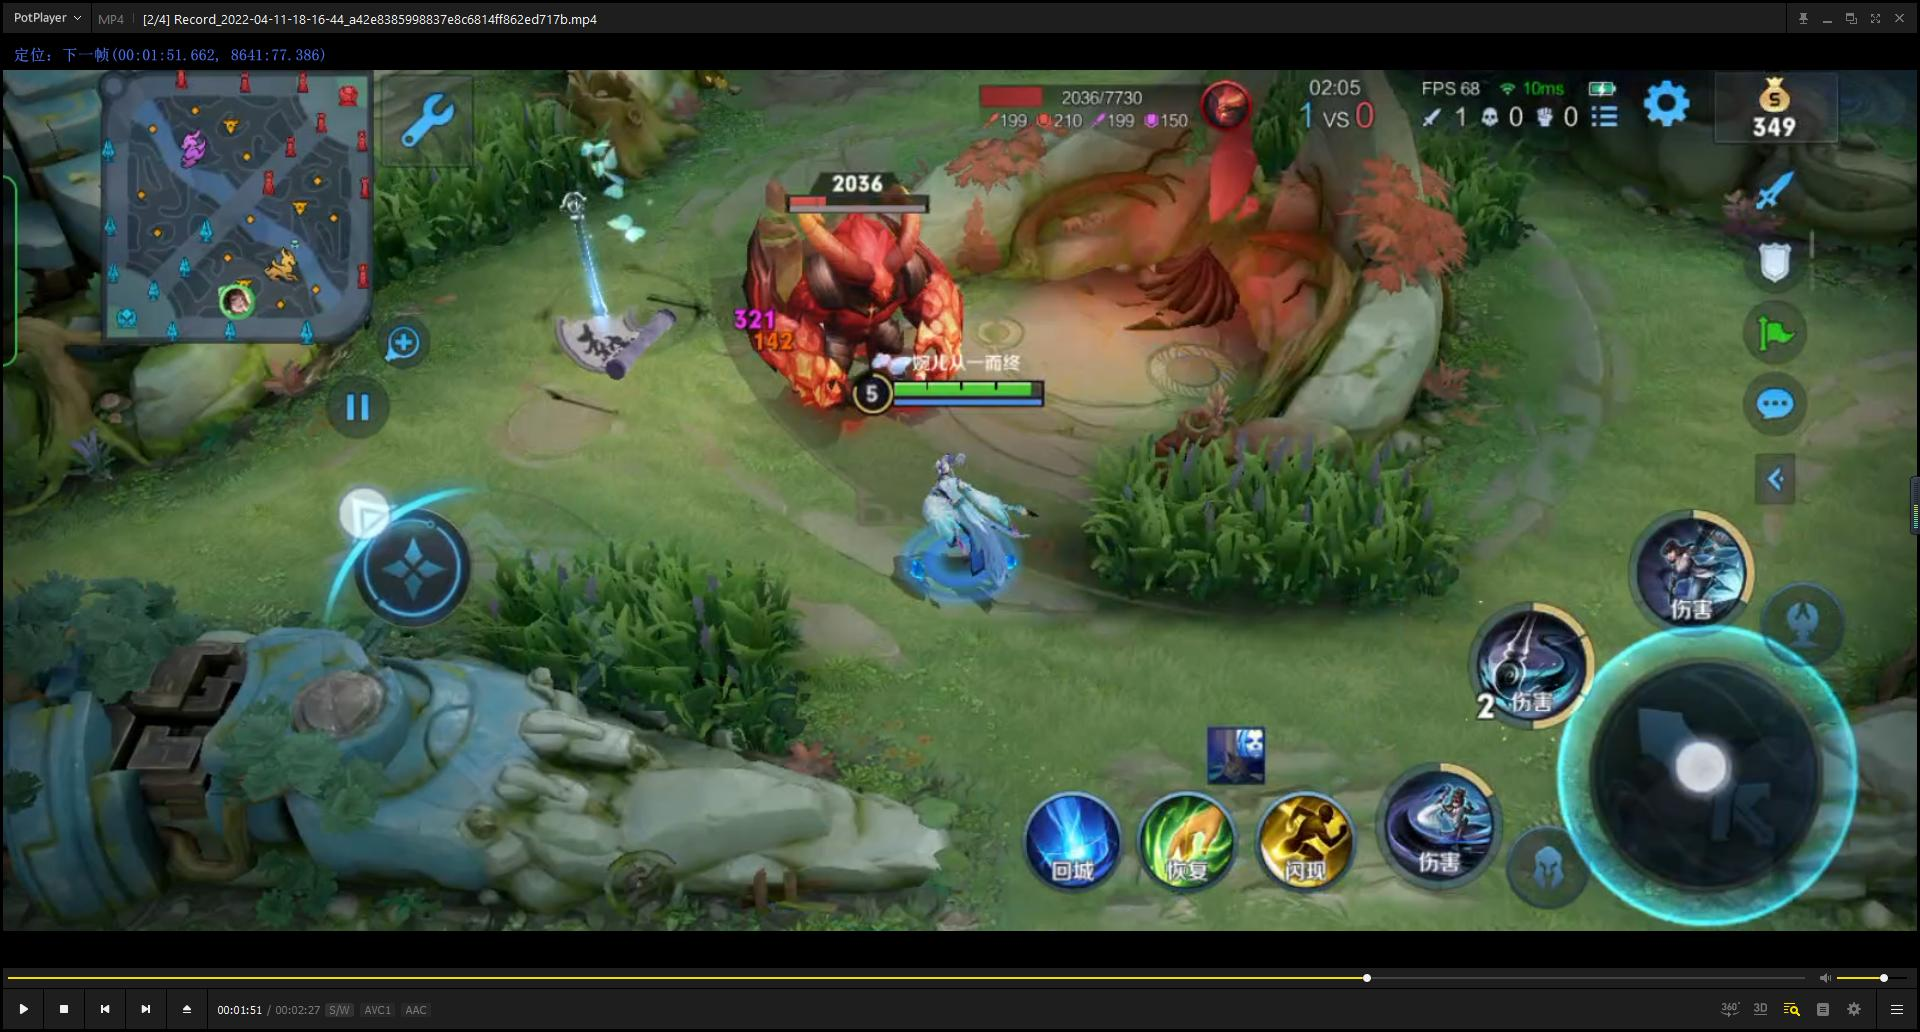Buff: (722, 149, 973, 461)
Hero: (878, 438, 1060, 623)
